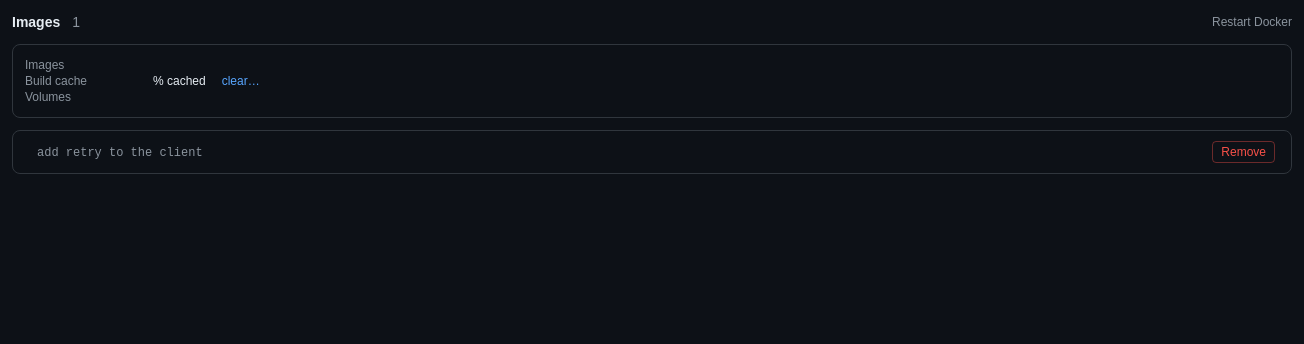
Test case: DockerPage › shows the full identity and provenance when a row is expanded
Expected: the text "Built from" is not shown
Click the button "add retry to the client". click: click(120, 153)
box: [29,142,1084,162]
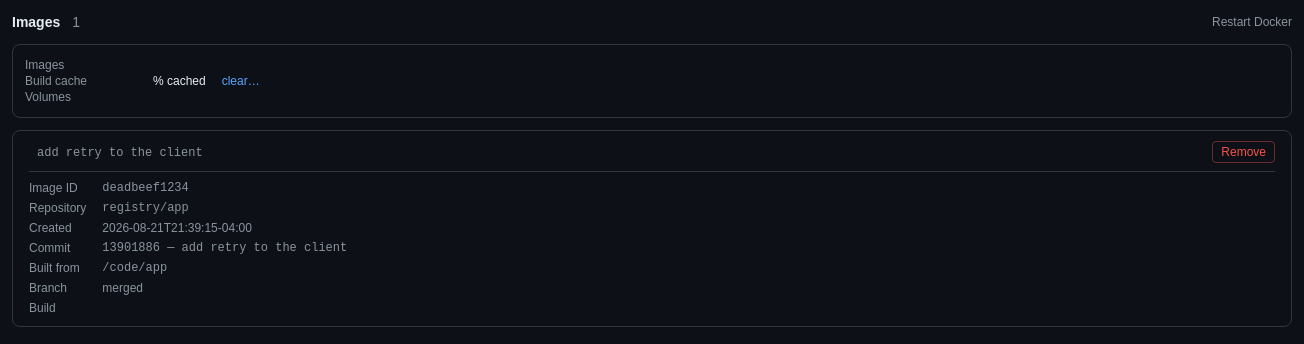
Expected: the text "Image ID" is shown, [29,181,78,195]
Expected: the text "Built from" is shown, [29,260,86,276]
Expected: the text "13901886 — add retry to the client" is shown, [102,241,347,255]
